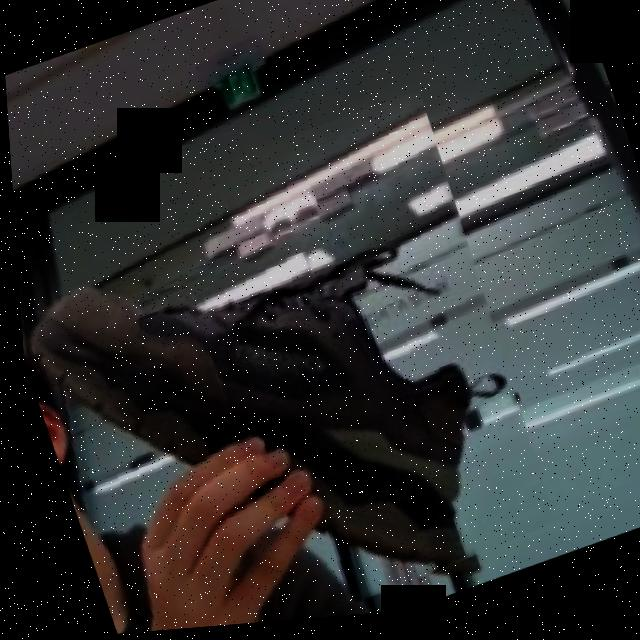shoe: (6, 88, 567, 640)
